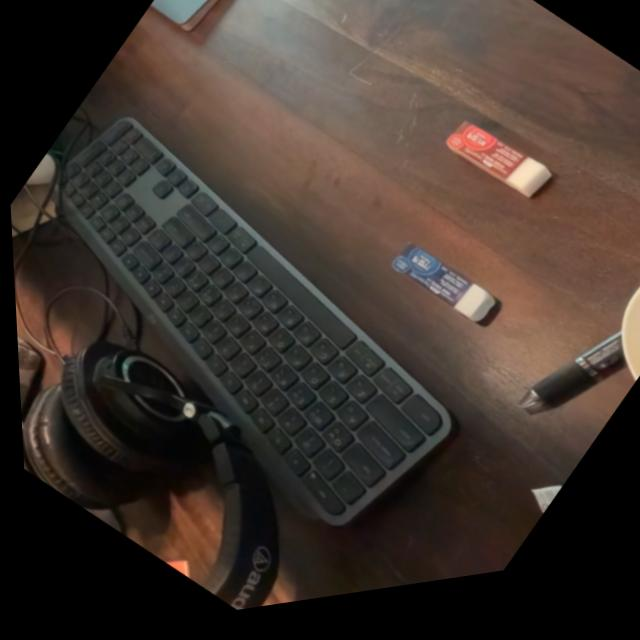blue: (370, 223, 520, 372)
red: (423, 100, 572, 248)
